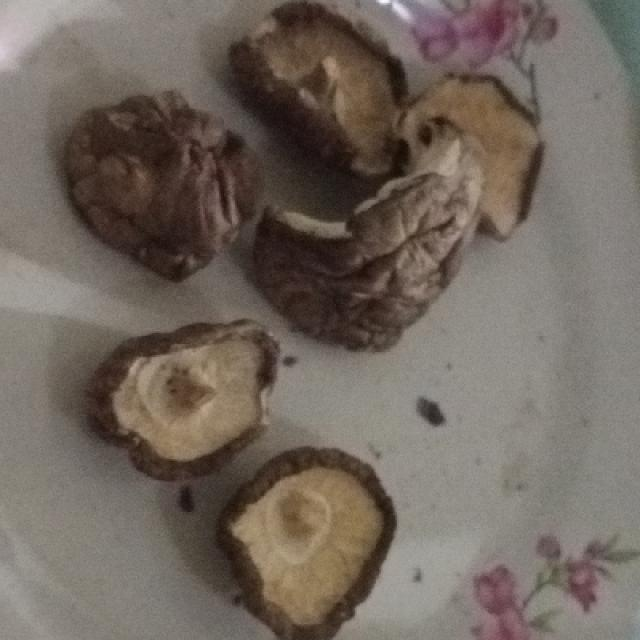Lentinus edodes: (246, 118, 491, 353), (67, 89, 264, 279), (216, 447, 399, 639), (91, 318, 281, 476), (235, 0, 404, 174), (403, 70, 545, 244)
